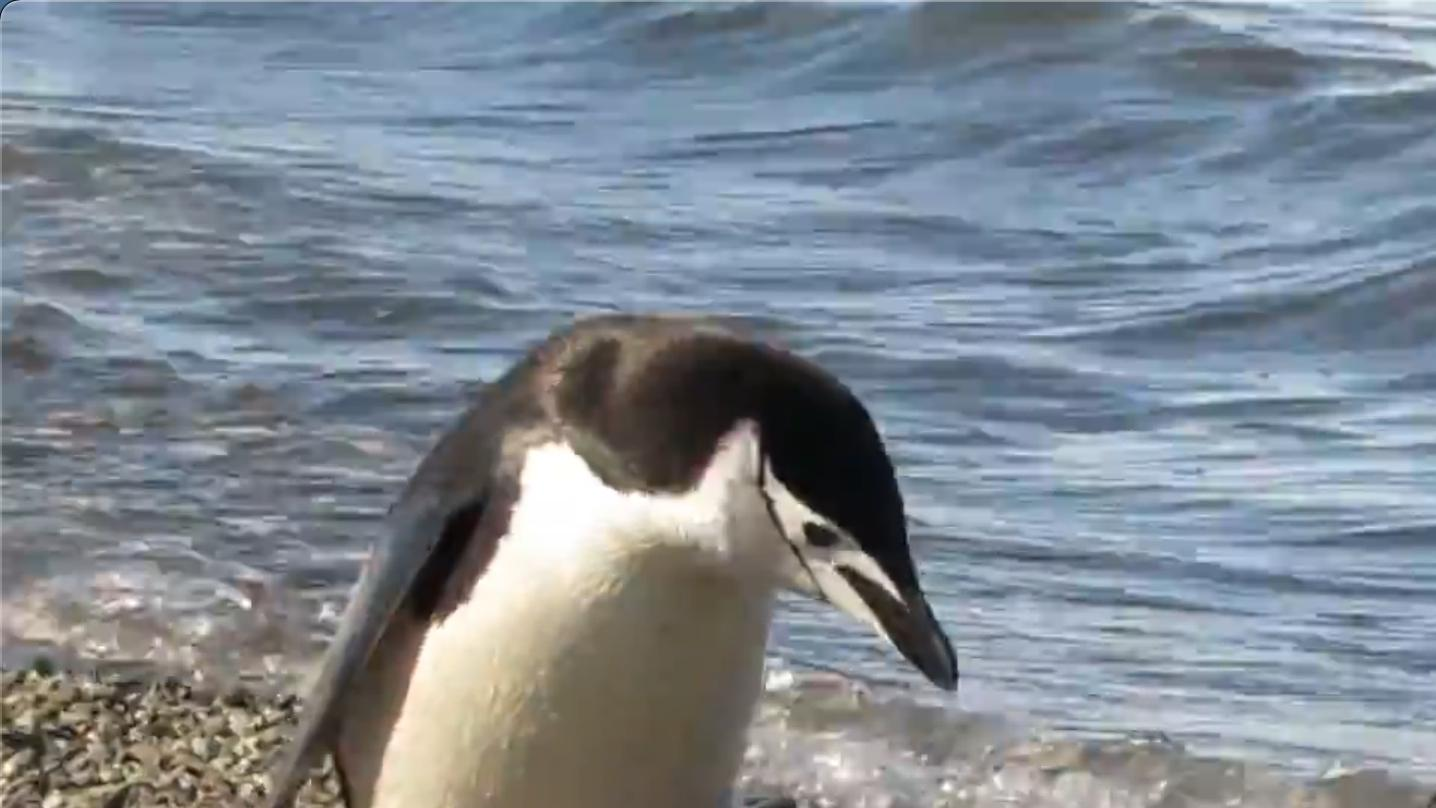Chinstrap Penguin: (225, 285, 1001, 808), (1241, 650, 1436, 808)
